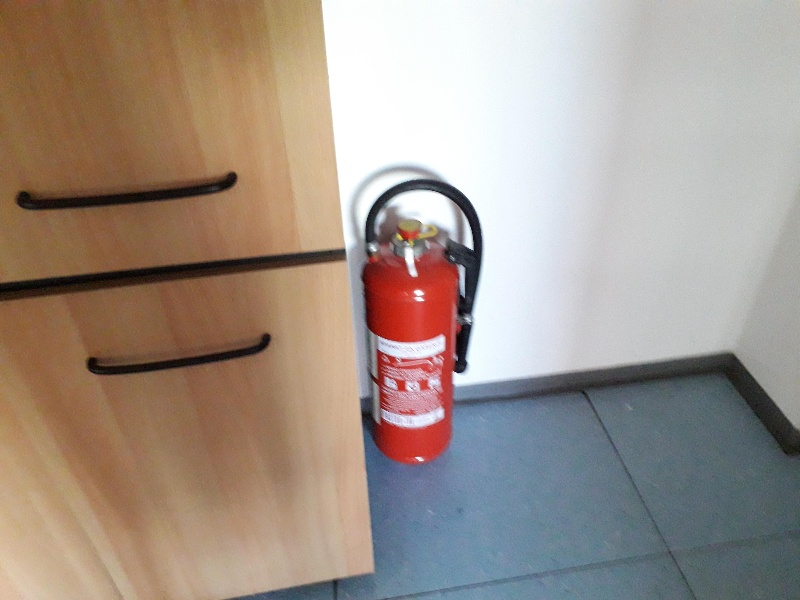vataparat: (361, 179, 483, 464)
